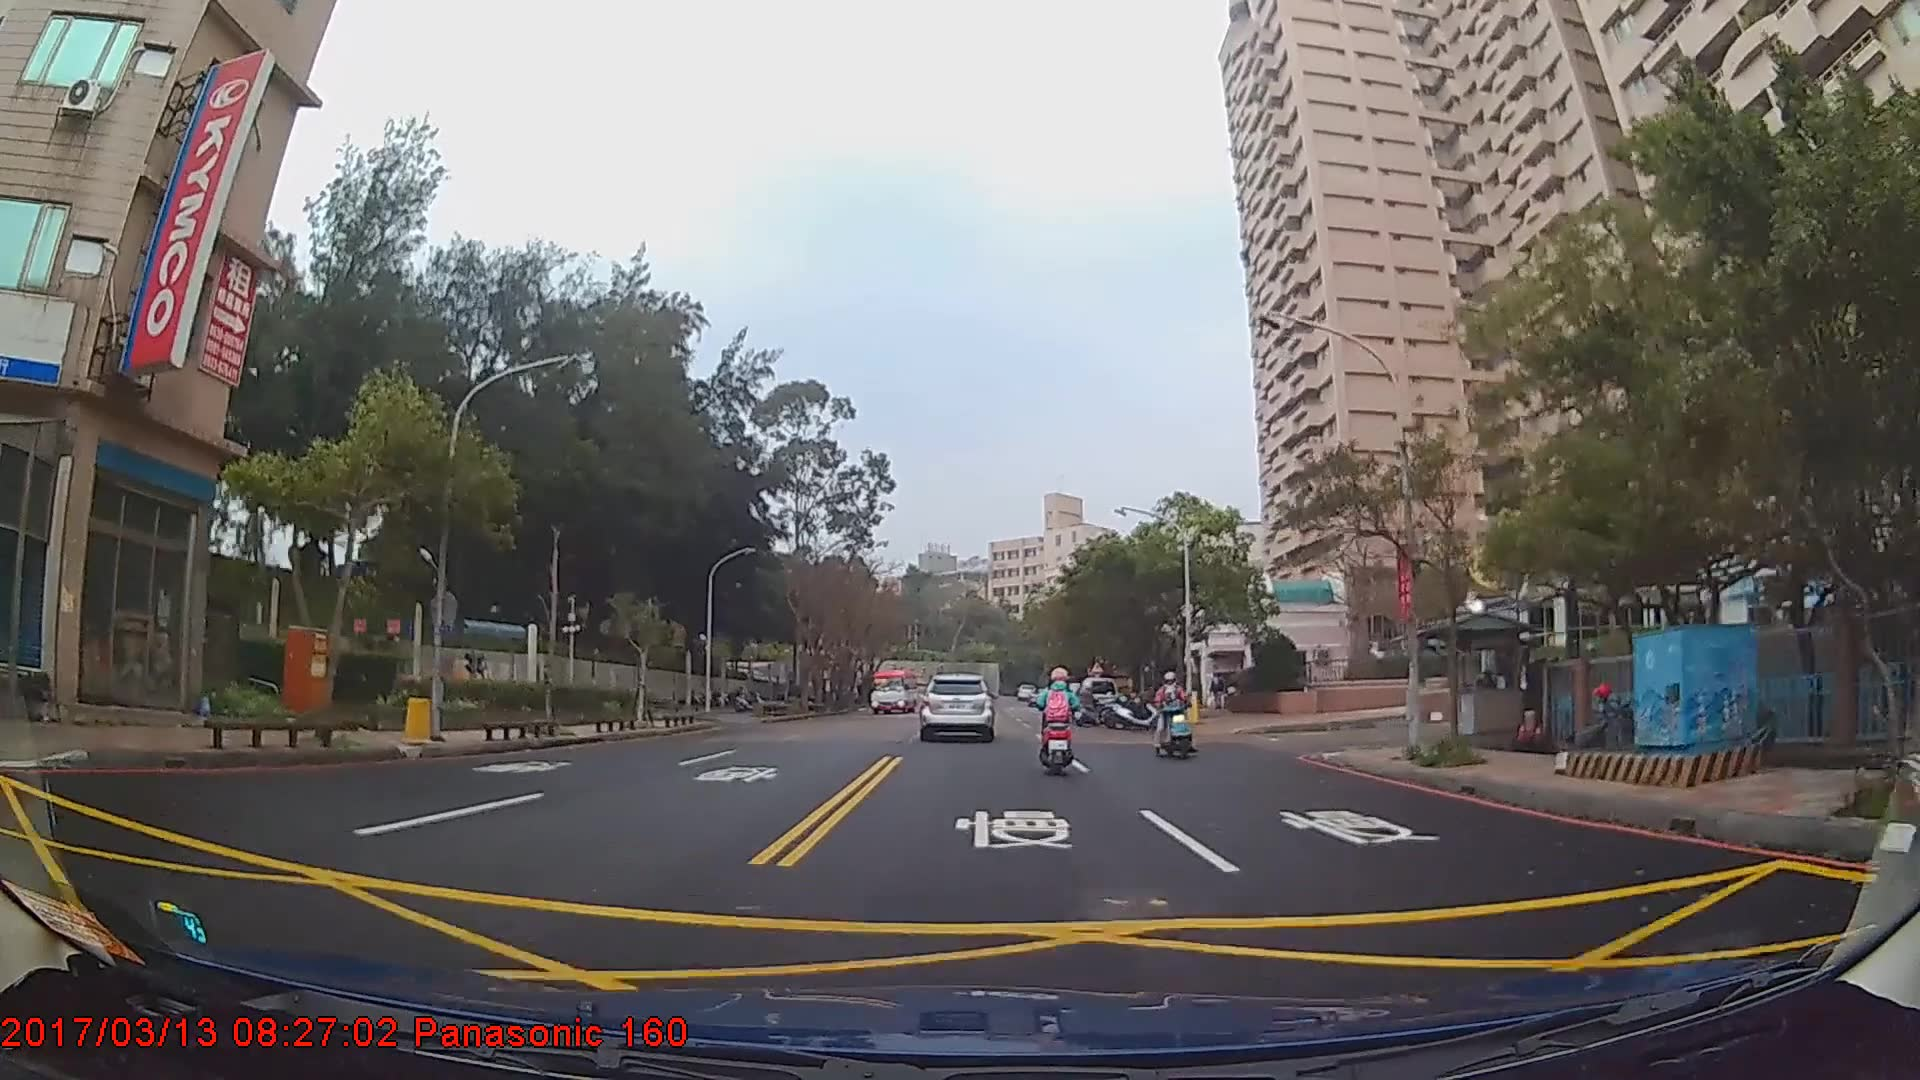rider: (1035, 660, 1080, 776), (1152, 669, 1195, 751), (1074, 679, 1106, 728)
vehicle: (918, 672, 994, 739), (868, 666, 919, 711), (1073, 675, 1119, 719)
